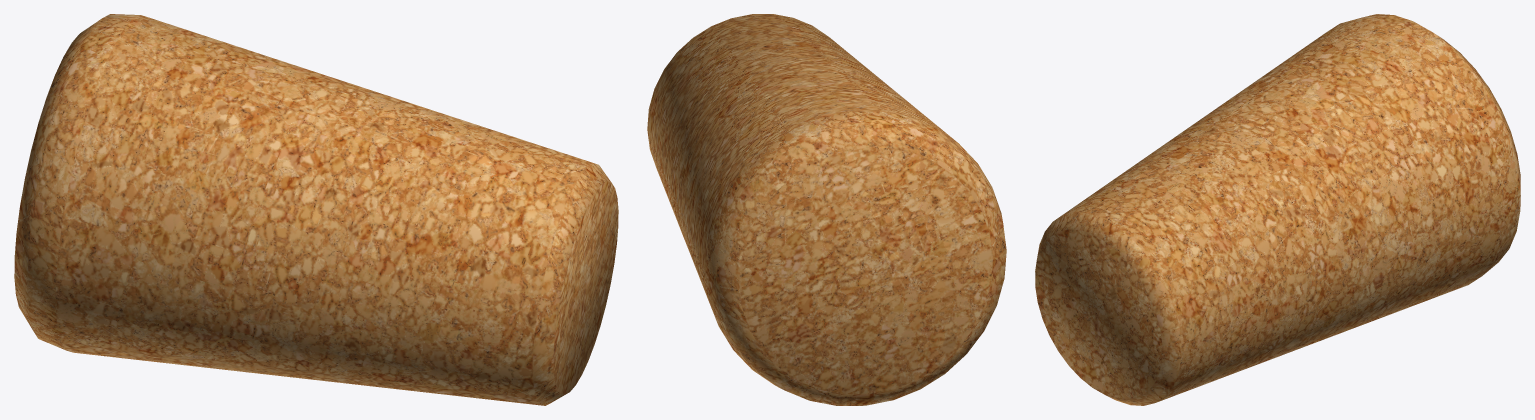
Rendered from sughero.fbx.
3 views of the same model, side by side, from view 1: azimuth 30°, elevation 25°; view 2: azimuth 150°, elevation 25°; view 3: azimuth 270°, elevation 25° (orthographic). The views are drawn at different scales.
Visible parts, largest first — view 1: sughero; view 2: sughero; view 3: sughero.
Boxes of the visible parts, <box> form: sughero: <box>14,14,618,405</box>; sughero: <box>647,14,1006,405</box>; sughero: <box>1035,14,1520,405</box>.
Bounding box in the file's own units: 5.6 × 3.4 × 5.7.
